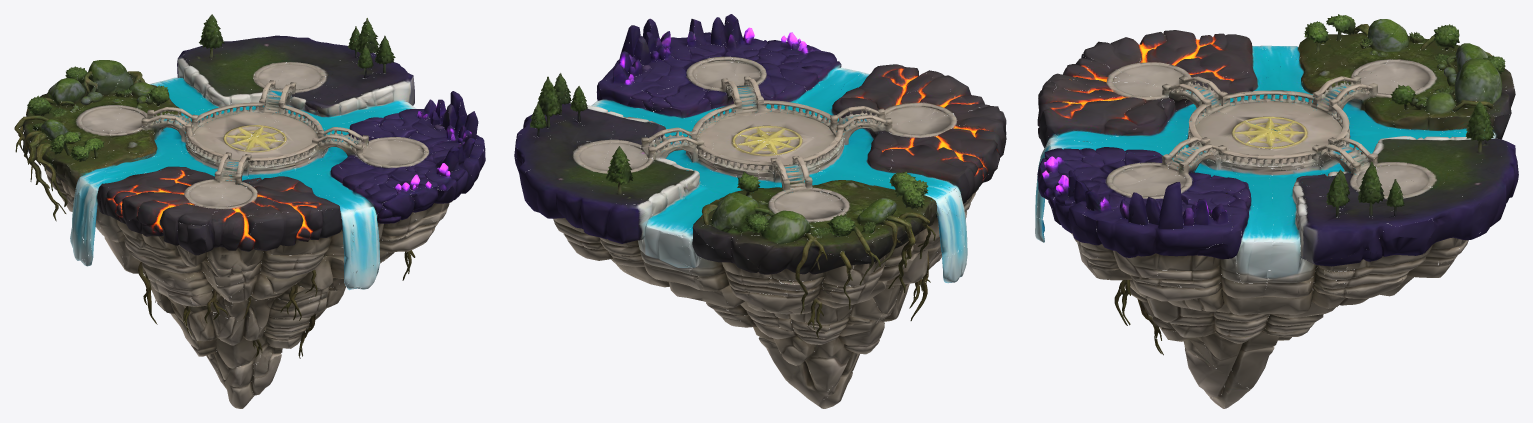
The model's file is tripo_island_base.glb.
3 views of the same model, side by side, from view 1: azimuth 30°, elevation 25°; view 2: azimuth 150°, elevation 25°; view 3: azimuth 270°, elevation 25° (orthographic). The views are drawn at different scales.
Visible parts, largest first — view 1: Tripo_Floating_Island_Base; view 2: Tripo_Floating_Island_Base; view 3: Tripo_Floating_Island_Base.
Boxes of the visible parts, x1,y1,x2,y2 form: Tripo_Floating_Island_Base: [14, 14, 485, 408]; Tripo_Floating_Island_Base: [514, 14, 1006, 408]; Tripo_Floating_Island_Base: [1035, 14, 1518, 408].
Bounding box in the file's own units: 64.02 × 50.06 × 61.72.
Materials: 1 (1 with a texture image).
